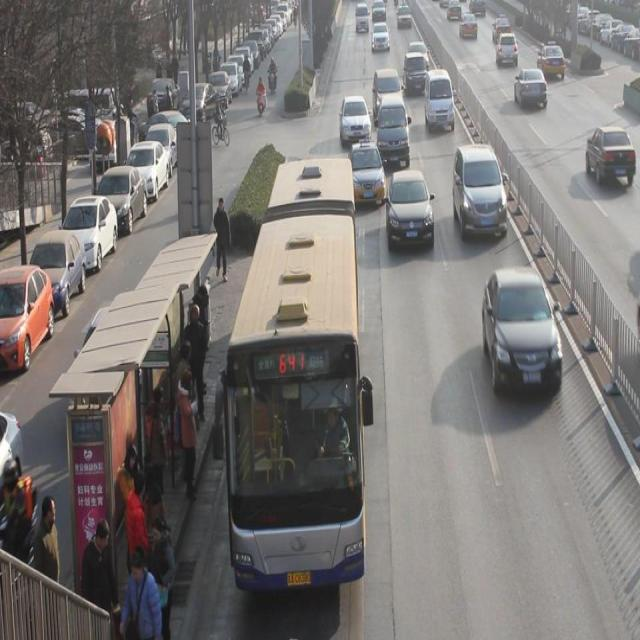car: (482, 266, 562, 392), (453, 142, 508, 238), (387, 170, 434, 253), (585, 123, 636, 188), (349, 140, 386, 204), (339, 96, 372, 146), (373, 68, 404, 119), (514, 67, 549, 108), (538, 41, 566, 78), (404, 53, 427, 94), (496, 31, 518, 64), (408, 41, 429, 69), (371, 21, 390, 51), (492, 15, 511, 42)
truck: (378, 101, 410, 167), (425, 68, 455, 132)
van: (219, 161, 365, 587)
